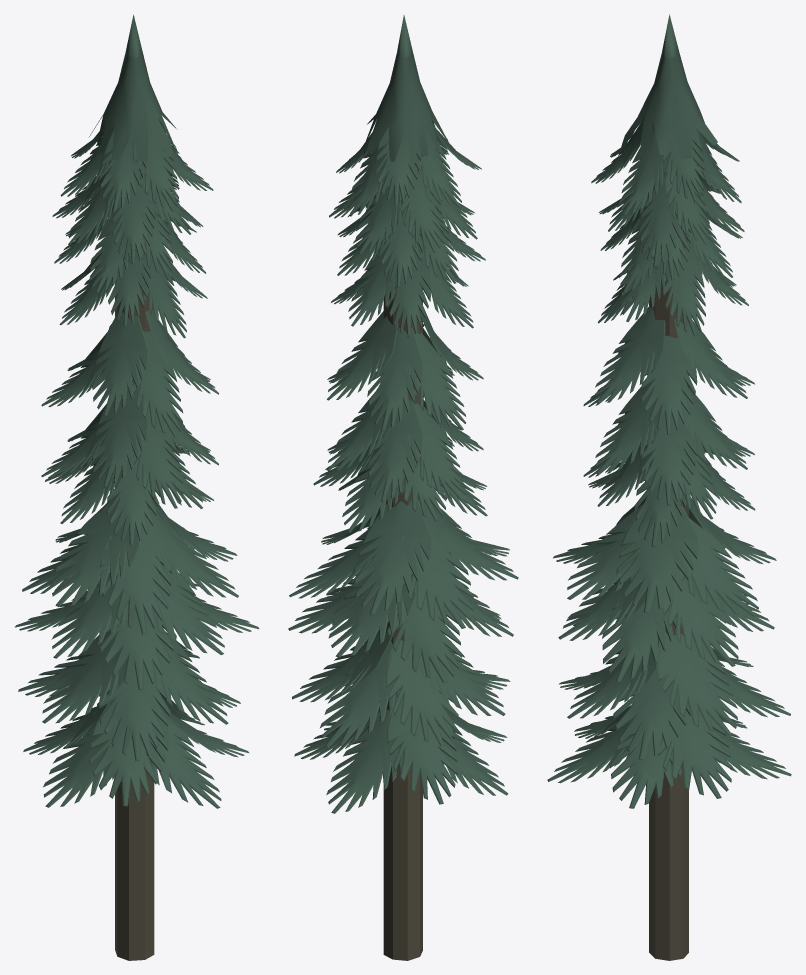
Rendered from SmallFull_PineTree.fbx.
3 views of the same model, side by side, from view 1: azimuth 30°, elevation 25°; view 2: azimuth 150°, elevation 25°; view 3: azimuth 270°, elevation 25° (orthographic).
Visible parts, largest first — view 1: polySurface1952, polySurface2014; view 2: polySurface1952, polySurface2014; view 3: polySurface1952, polySurface2014.
Boxes of the visible parts, <box> form: polySurface1952: <box>14,14,259,808</box>; polySurface2014: <box>115,282,154,960</box>; polySurface1952: <box>288,15,518,813</box>; polySurface2014: <box>383,288,422,960</box>; polySurface1952: <box>547,14,791,808</box>; polySurface2014: <box>649,123,688,960</box>.
Size of the model in its own units: 14.53 by 66.31 by 15.67.
